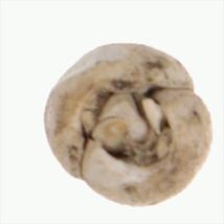L3: (79, 78, 172, 167)
L4: (44, 43, 213, 208)
